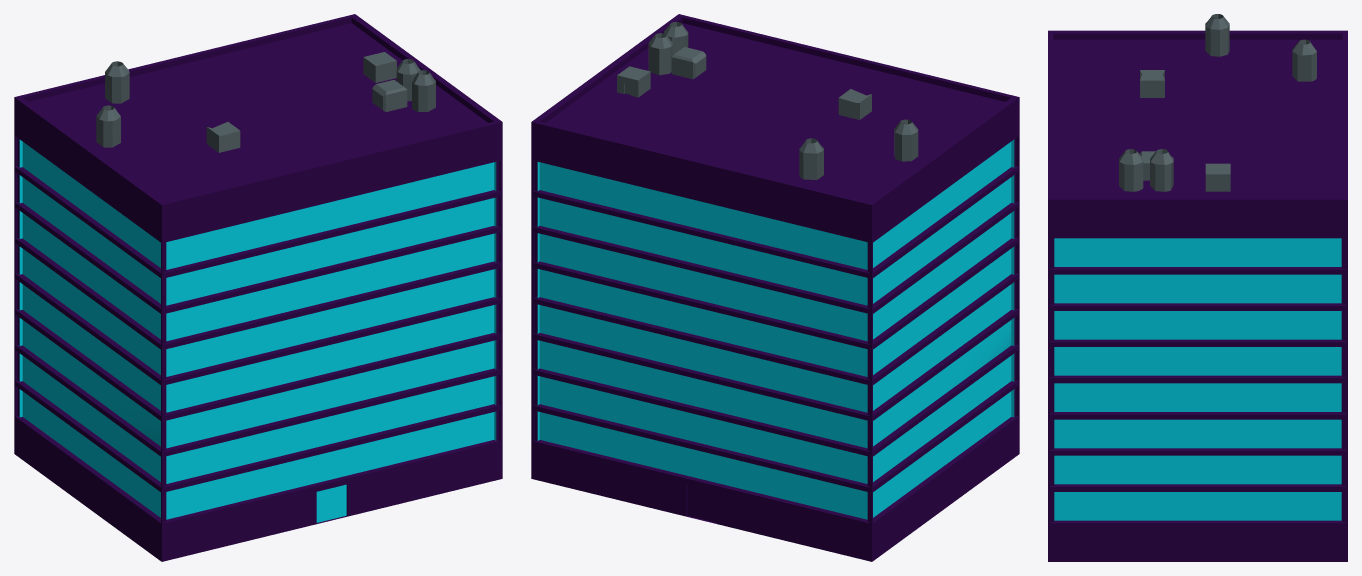
Rendered from Building2Office.fbx.
3 views of the same model, side by side, from view 1: azimuth 30°, elevation 25°; view 2: azimuth 150°, elevation 25°; view 3: azimuth 270°, elevation 25° (orthographic).
Parts seen in each view (by area): view 1: EdificioV2, Build2Glass, Build2TopProp; view 2: EdificioV2, Build2Glass, Build2TopProp; view 3: EdificioV2, Build2Glass, Build2TopProp.
Part boxes in pixels (<box>): EdificioV2: <box>14,14,502,561</box>; Build2Glass: <box>19,139,496,522</box>; Build2TopProp: <box>96,52,435,152</box>; EdificioV2: <box>531,14,1019,561</box>; Build2Glass: <box>537,139,1014,519</box>; Build2TopProp: <box>617,22,918,179</box>; EdificioV2: <box>1048,30,1347,561</box>; Build2Glass: <box>1054,238,1341,520</box>; Build2TopProp: <box>1119,14,1316,191</box>.
Size of the model in its own units: 3200 by 3459 by 2400.
3 materials, 3 textured.
